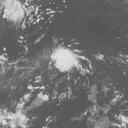cyclone: (48, 45, 82, 73)
